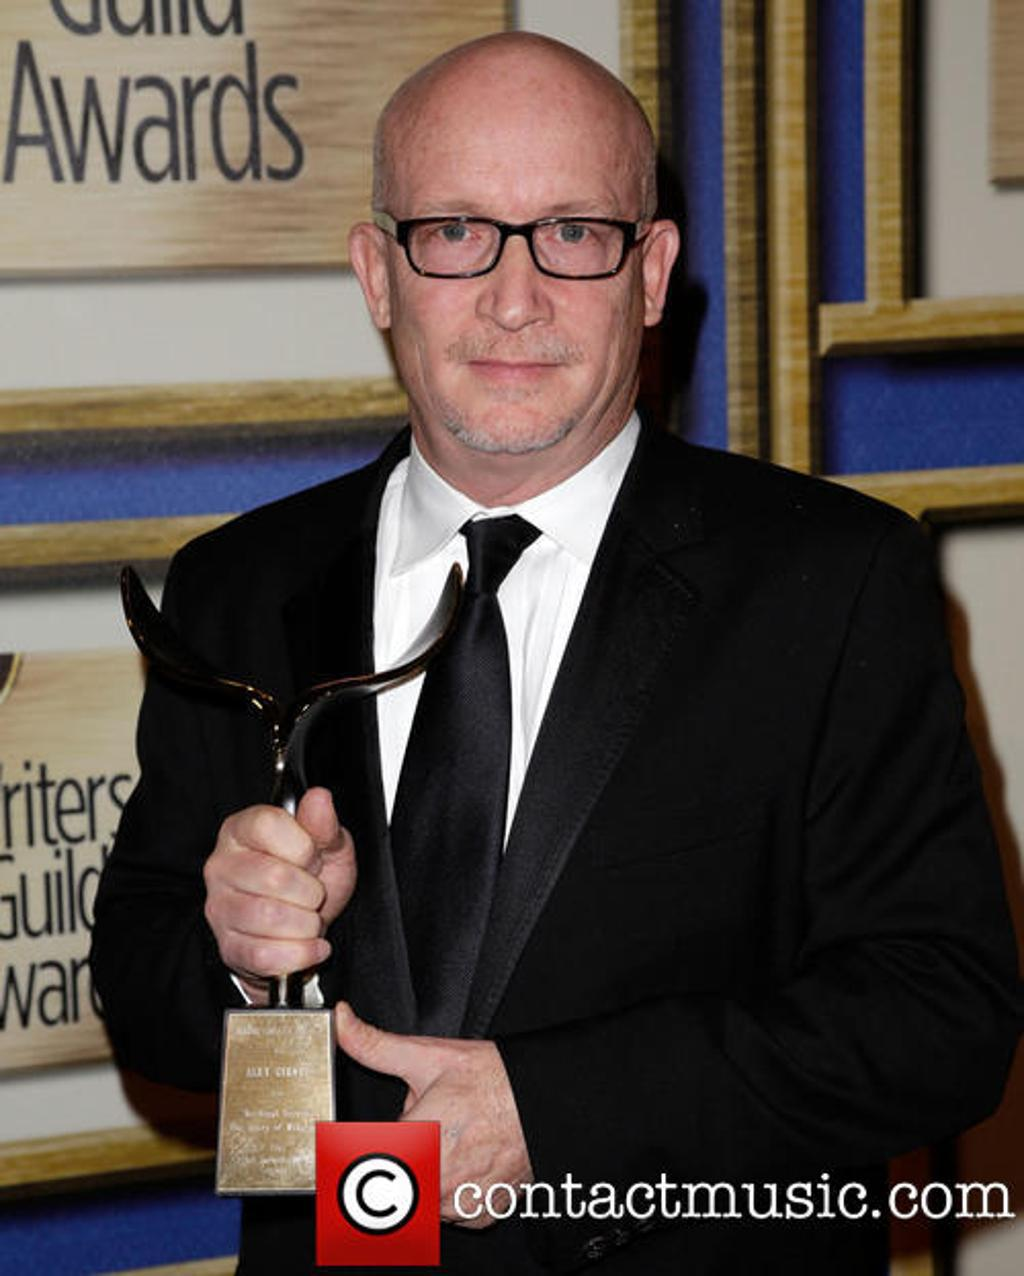face: (397, 66, 641, 460)
